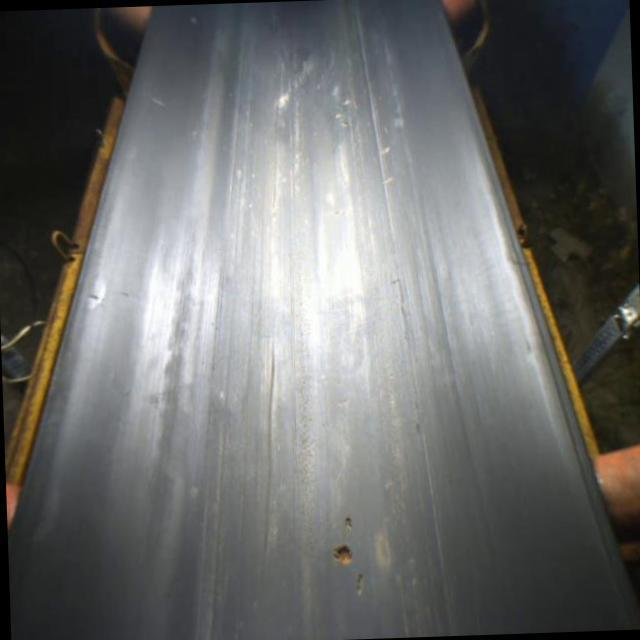Hole: (328, 542, 356, 566)
Puncture: (354, 572, 366, 596), (341, 514, 354, 533)
Tear: (254, 336, 283, 568)
